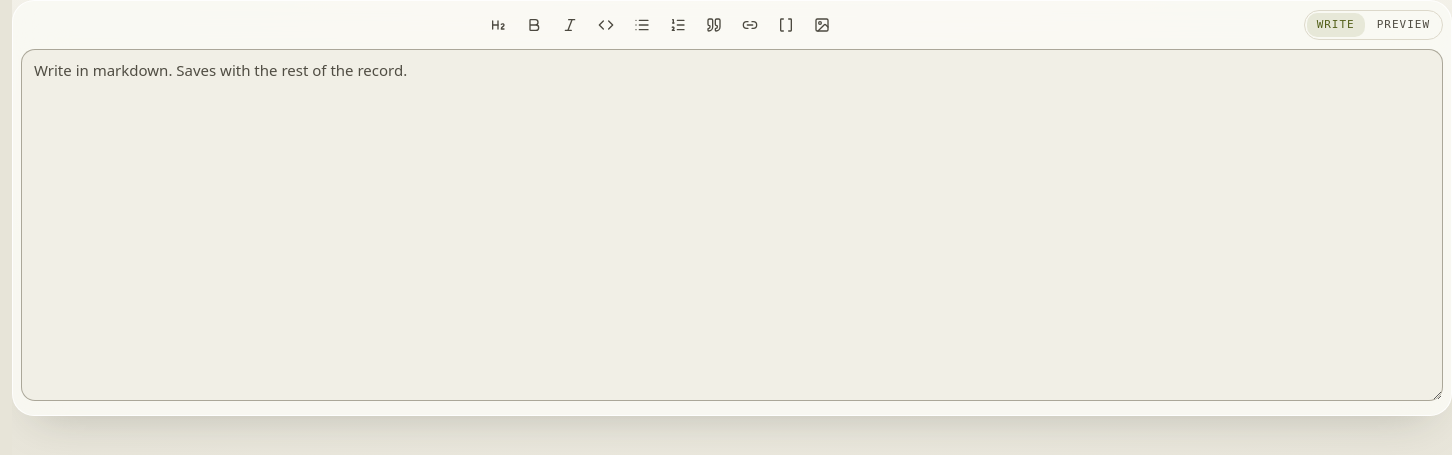
Test case: MarkdownEditor › offers Create for a qualified new title and inserts the link
Type "[ [plant/New fern" into the text box named "Markdown body". click: (732, 225)
box: [21,49,1443,401]
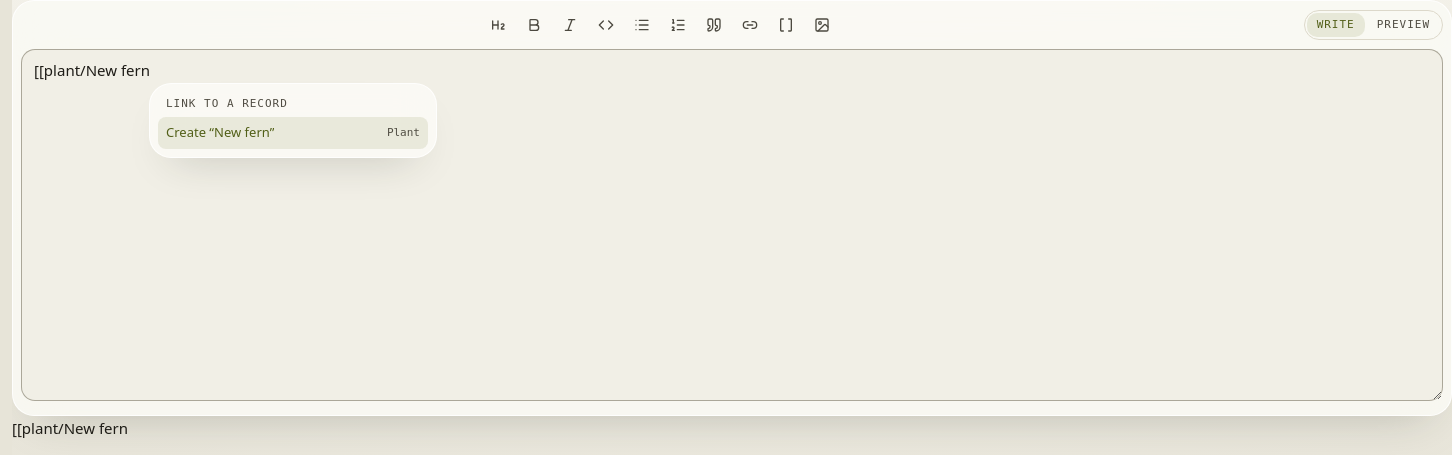
Now the option "Create “New fern” Plant" is shown, box [158,116,428,148]
Press Enter in the text box named "Markdown body"
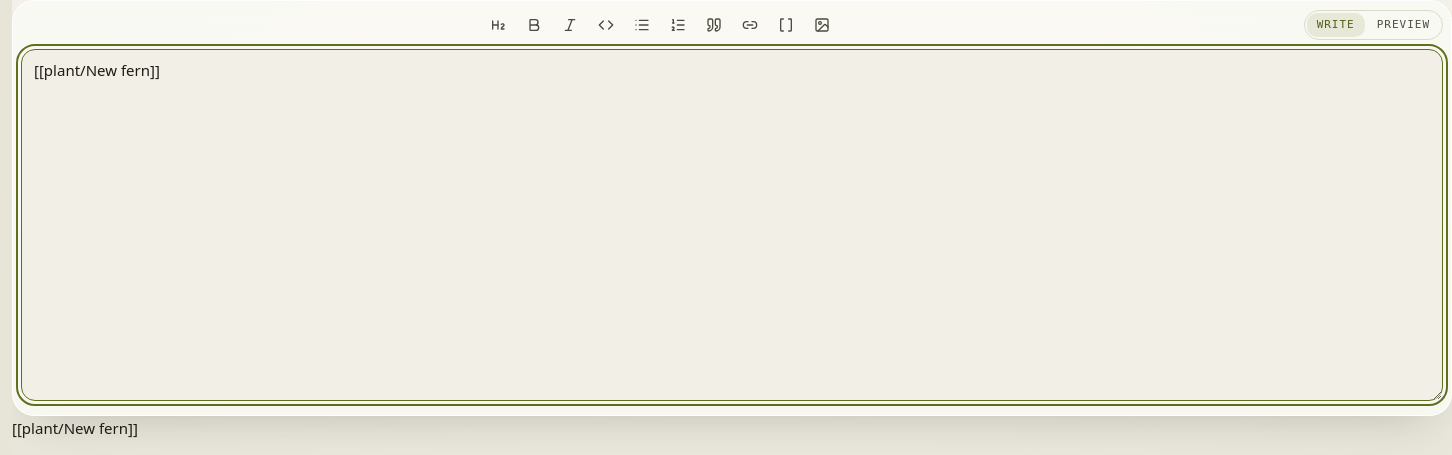
Now the text box named "Markdown body" holds "[ [plant/New fern]]"
